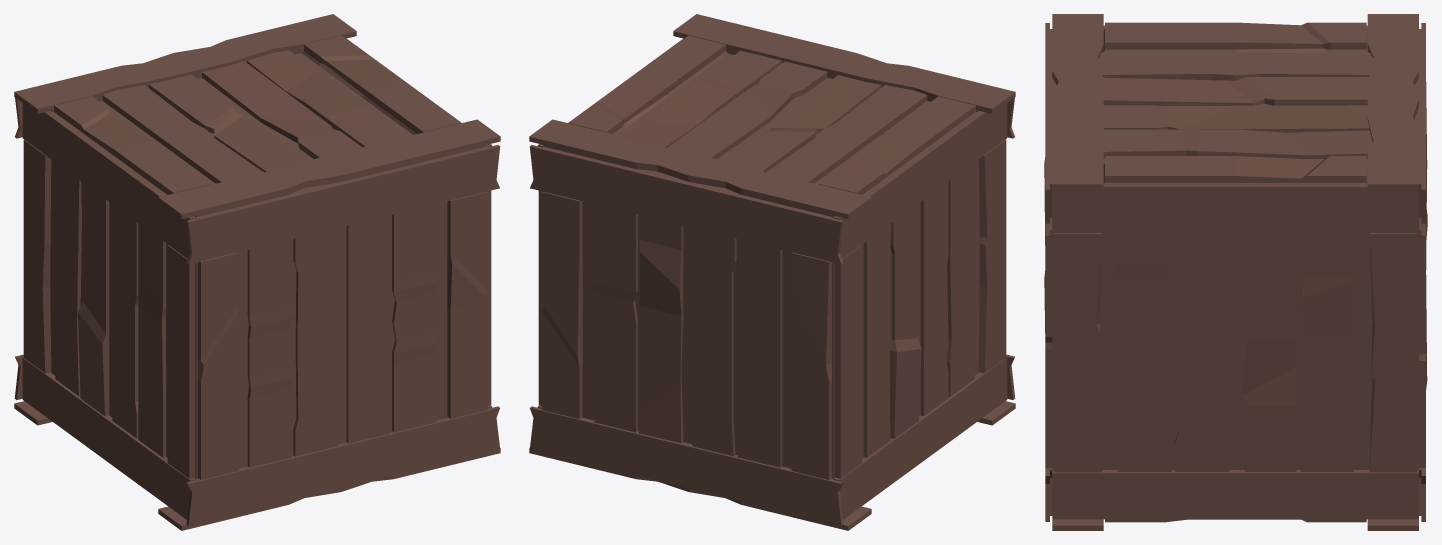
File: crate.glb
The picture shows the model from 3 angles, left to right: view 1: azimuth 30°, elevation 25°; view 2: azimuth 150°, elevation 25°; view 3: azimuth 270°, elevation 25°; orthographic projection. The views are drawn at different scales.
Parts seen in each view (by area): view 1: Crate; view 2: Crate; view 3: Crate.
Boxes of the visible parts, x1,y1,x2,y2 form: Crate: [14, 14, 500, 530]; Crate: [529, 14, 1015, 530]; Crate: [1044, 14, 1427, 530].
Bounding box in the file's own units: 1.38 × 1.31 × 1.31.
